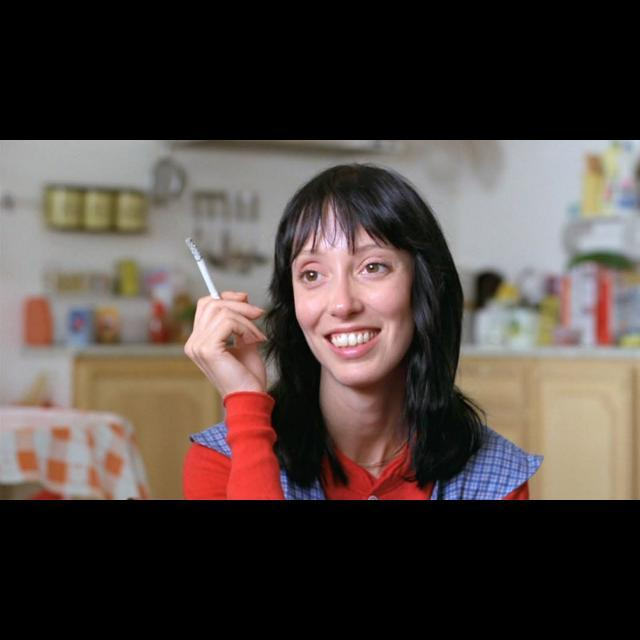rokok: (182, 236, 224, 300)
